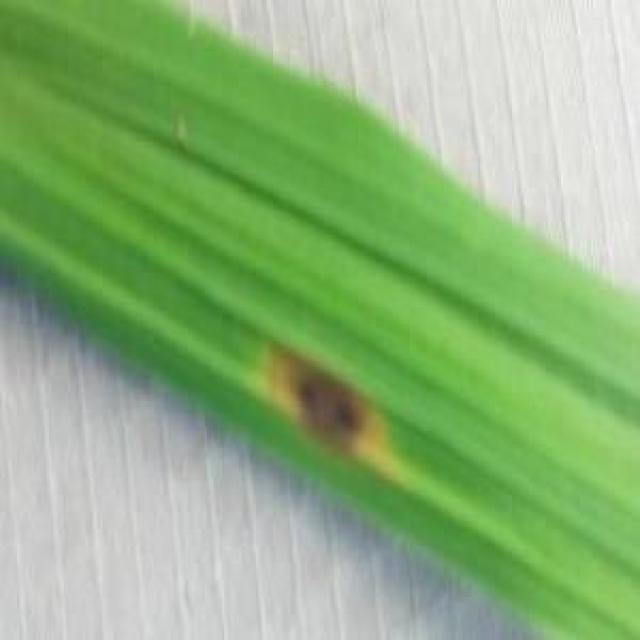Brown_Spot: (258, 350, 386, 466)
